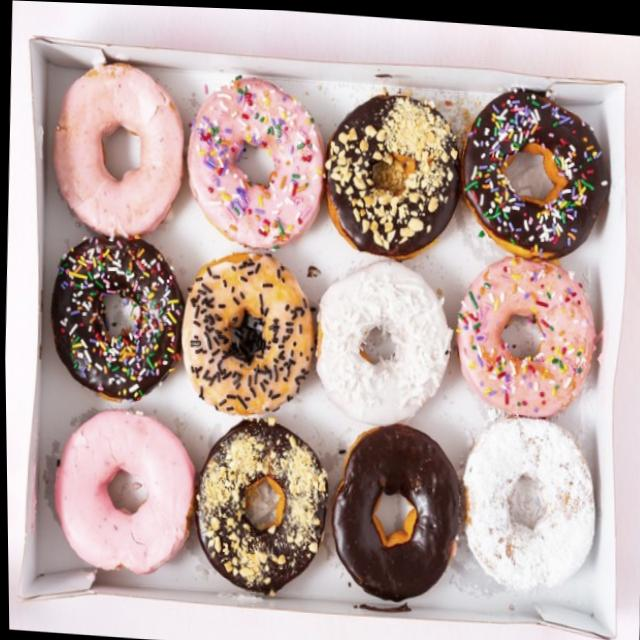donut: (459, 74, 611, 260), (181, 65, 328, 252), (187, 406, 329, 599), (456, 406, 598, 599), (325, 412, 460, 605), (47, 55, 187, 238), (48, 400, 191, 579), (309, 251, 455, 425), (449, 243, 600, 411), (318, 83, 462, 259), (43, 229, 186, 403), (176, 245, 316, 420)
